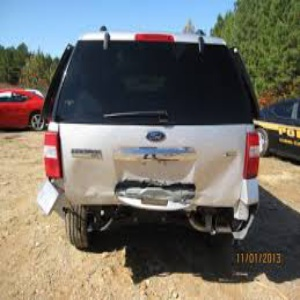bonnet: (88, 55, 181, 160)
